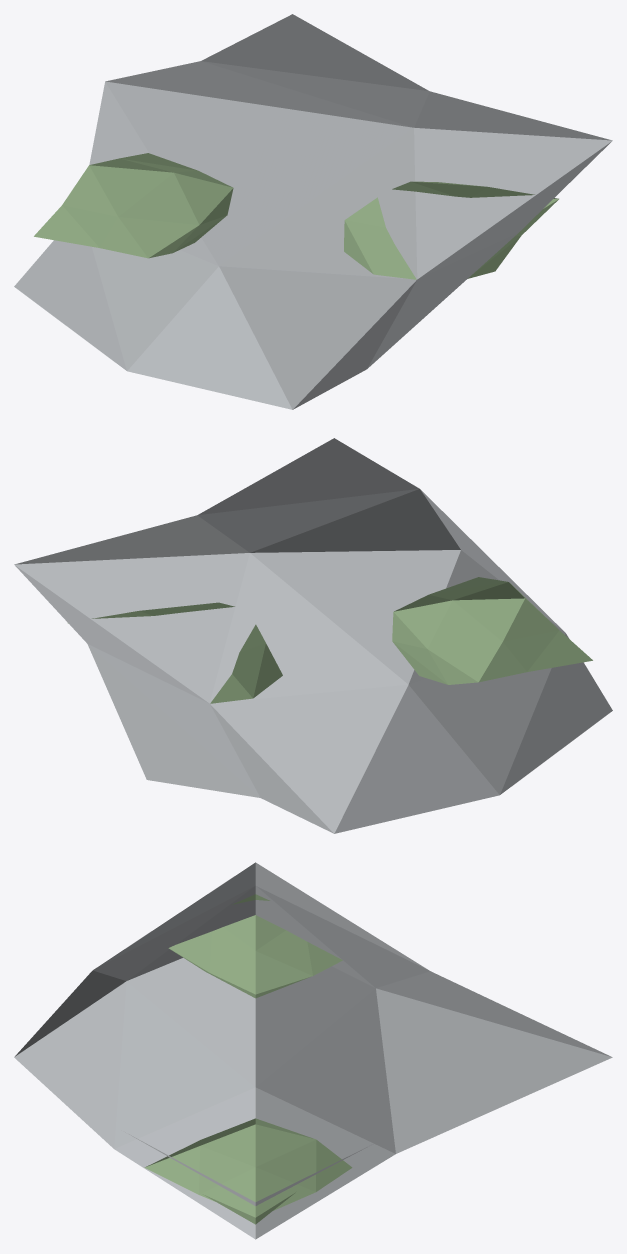
File: moss_rock_v36.glb
The picture shows the model from 3 angles, top to bottom: view 1: azimuth 30°, elevation 25°; view 2: azimuth 150°, elevation 25°; view 3: azimuth 270°, elevation 25°; orthographic projection. The views are drawn at different scales.
Parts seen in each view (by area): view 1: lod0; view 2: lod0; view 3: lod0.
Part boxes in pixels (box(x1,y1,x2,y2)): lod0: box(14, 14, 612, 409); lod0: box(14, 438, 612, 833); lod0: box(14, 862, 612, 1239).
Size of what is drawn, in the model's own units: 0.934 by 0.5899 by 0.8489.
